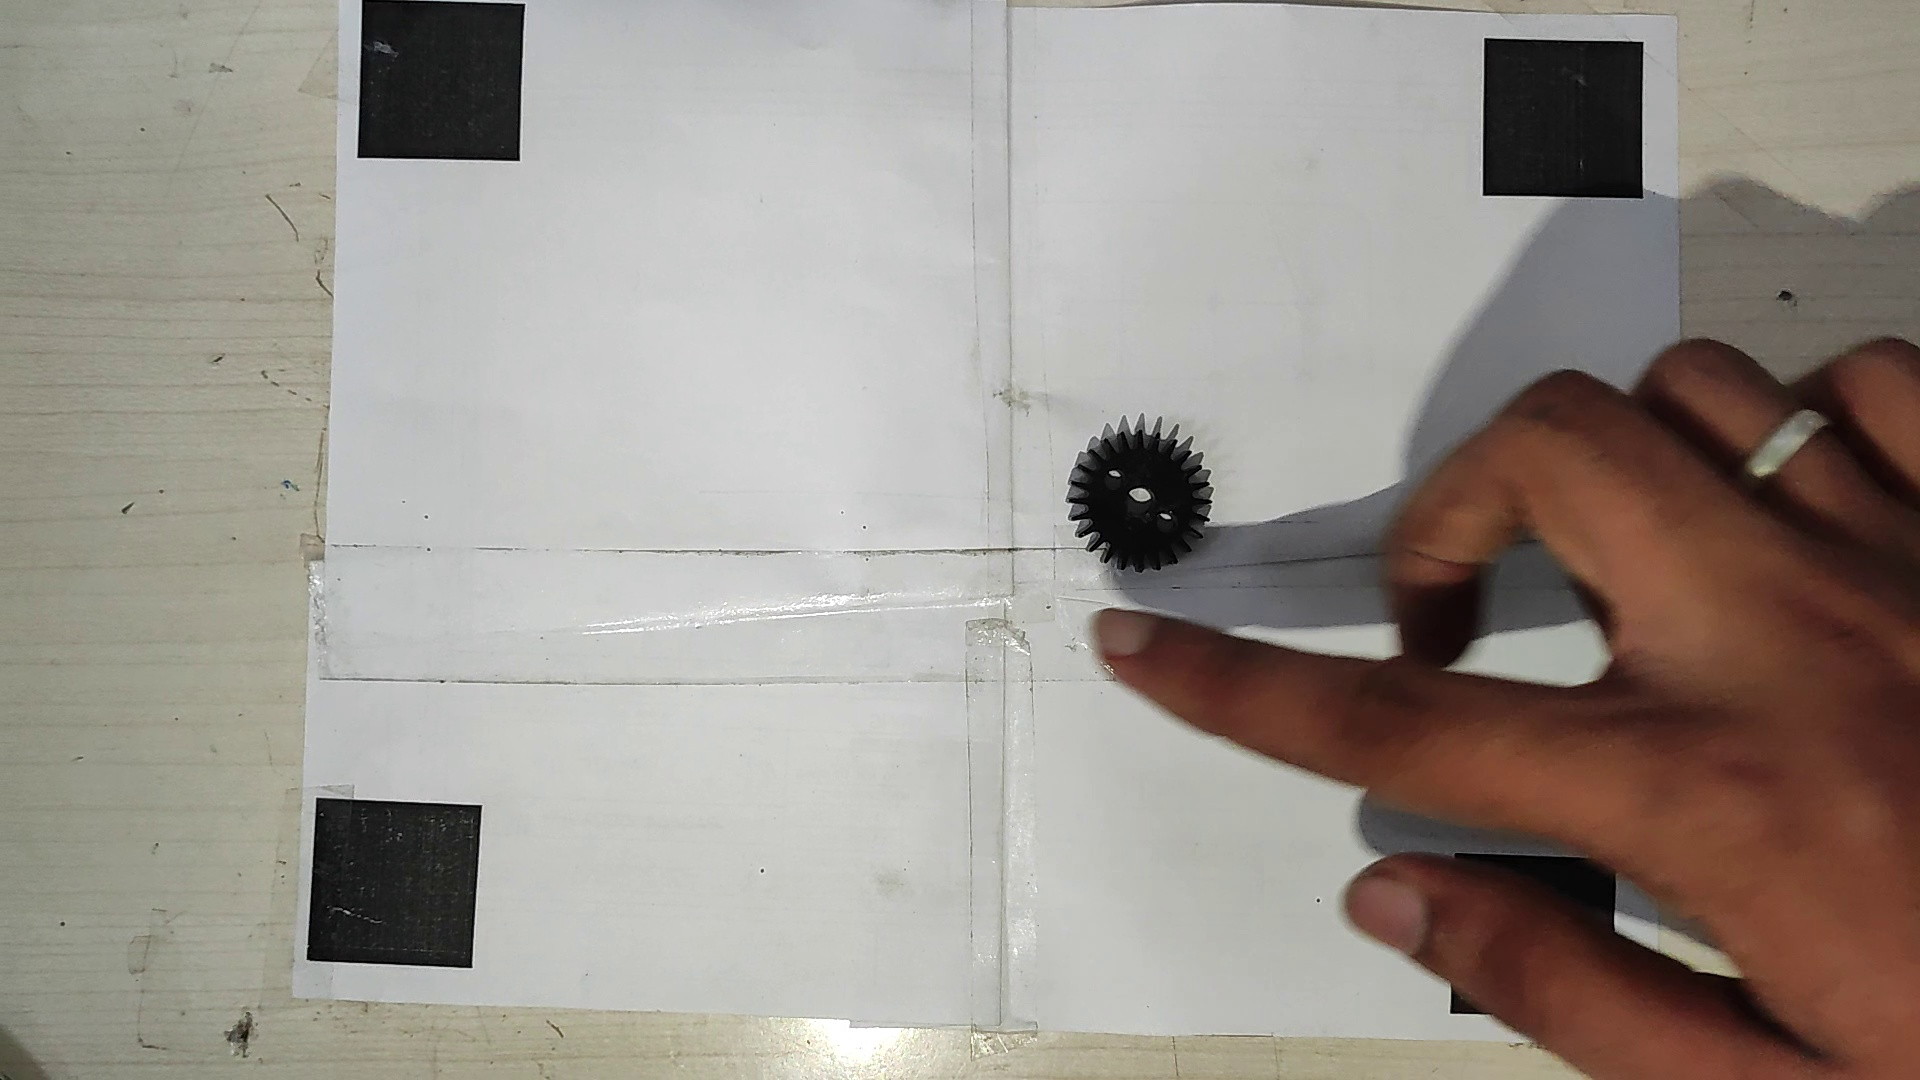Gear: (1062, 418, 1215, 580)
